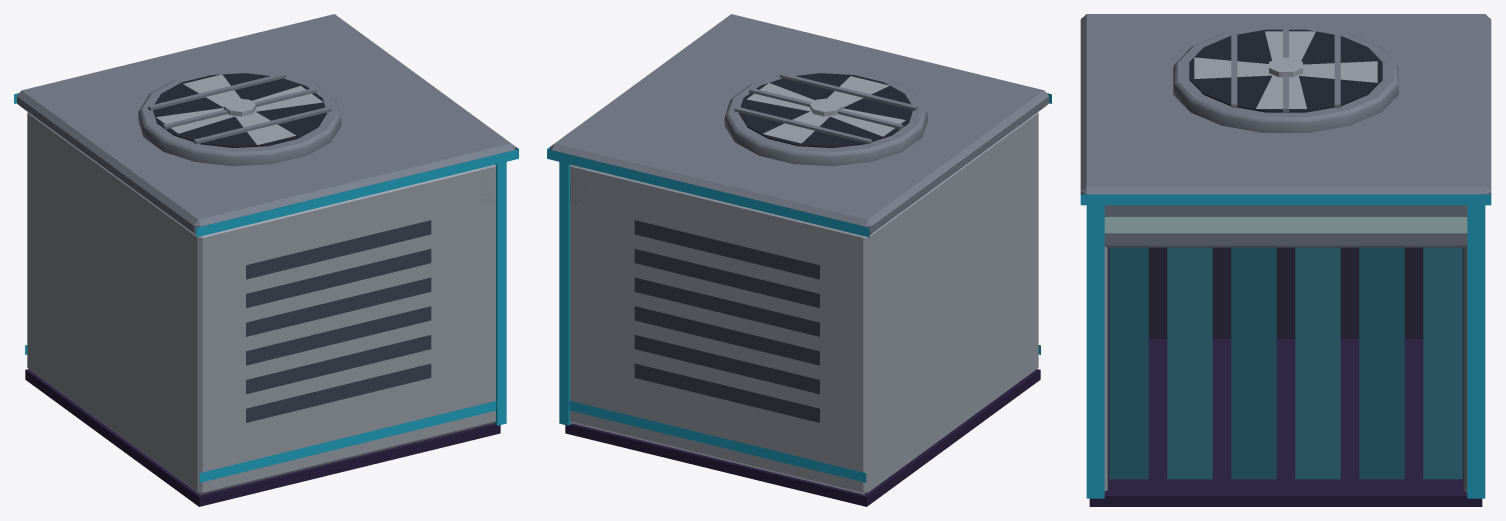
Rendered from neon-hide.glb.
3 renders of one model, left to right at view 1: azimuth 30°, elevation 25°; view 2: azimuth 150°, elevation 25°; view 3: azimuth 270°, elevation 25°, orthographic. The views are drawn at different scales.
Parts seen in each view (by area): view 1: neon-hide; view 2: neon-hide; view 3: neon-hide.
Boxes of the visible parts, left/top/right/bottom form: neon-hide: left=14, top=14, right=518, bottom=506; neon-hide: left=547, top=14, right=1051, bottom=506; neon-hide: left=1080, top=14, right=1491, bottom=506.
Bounding box in the file's own units: 1.39 × 1.26 × 1.36.
